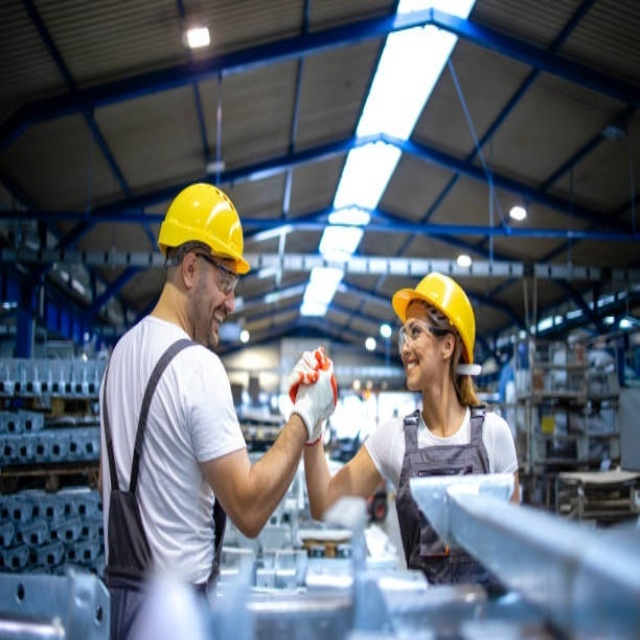Gafas: (176, 251, 240, 294), (398, 321, 452, 354)
Guantes: (287, 347, 336, 446)
Sin_mascara: (206, 309, 228, 344), (402, 353, 422, 386)
